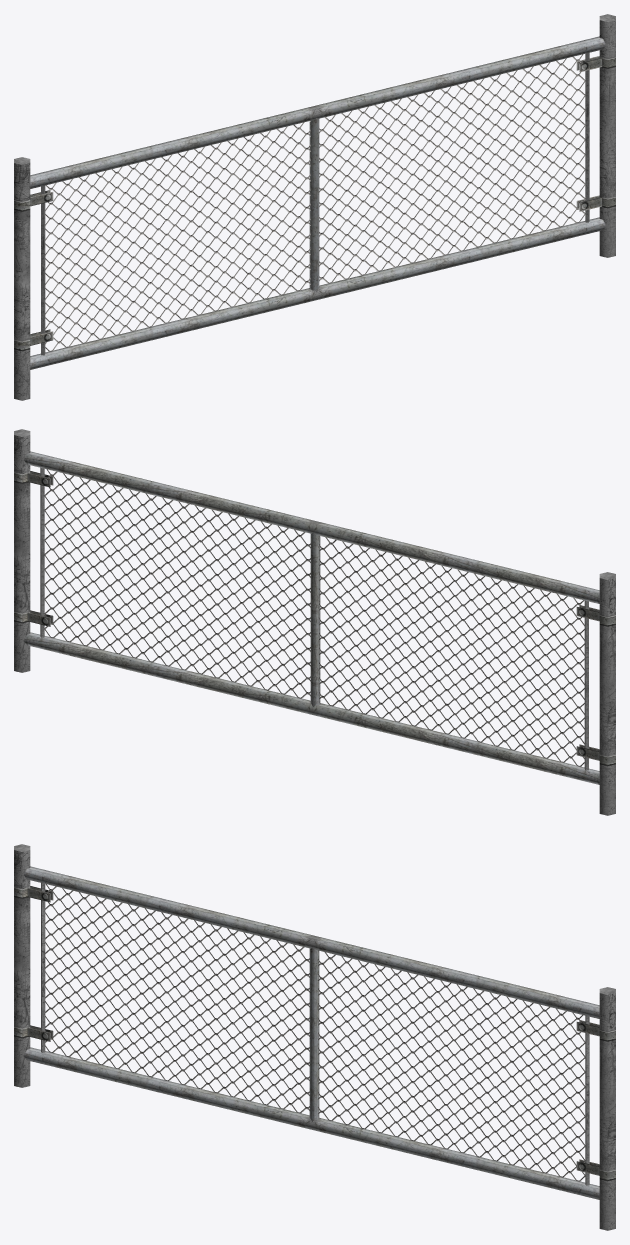
Rendered from fenceMetalLowA.FBX.
The picture shows the model from 3 angles, top to bottom: view 1: azimuth 30°, elevation 25°; view 2: azimuth 150°, elevation 25°; view 3: azimuth 330°, elevation 25°; orthographic projection.
Parts seen in each view (by area): view 1: fenceMetalLowA; view 2: fenceMetalLowA; view 3: fenceMetalLowA.
Boxes of the visible parts, x1,y1,x2,y2 form: fenceMetalLowA: (14,14,615,400); fenceMetalLowA: (14,429,615,815); fenceMetalLowA: (14,844,615,1230).
Bounding box in the file's own units: 103 × 38.53 × 2.42.
